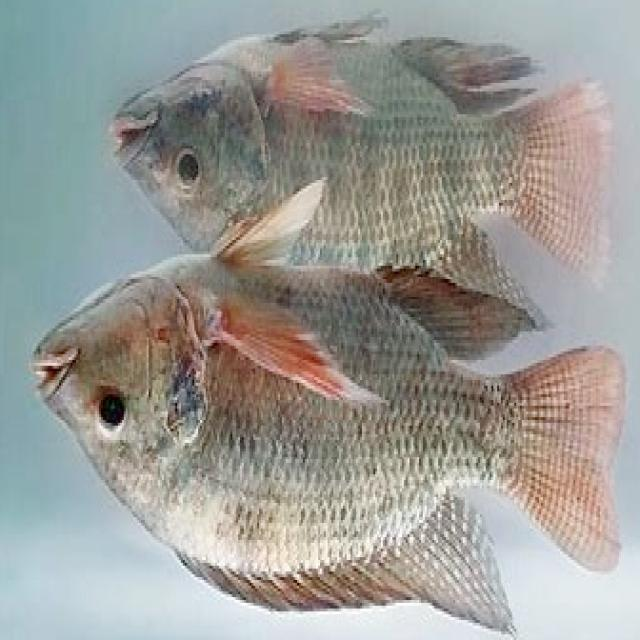Tilapia: (26, 176, 626, 639)
